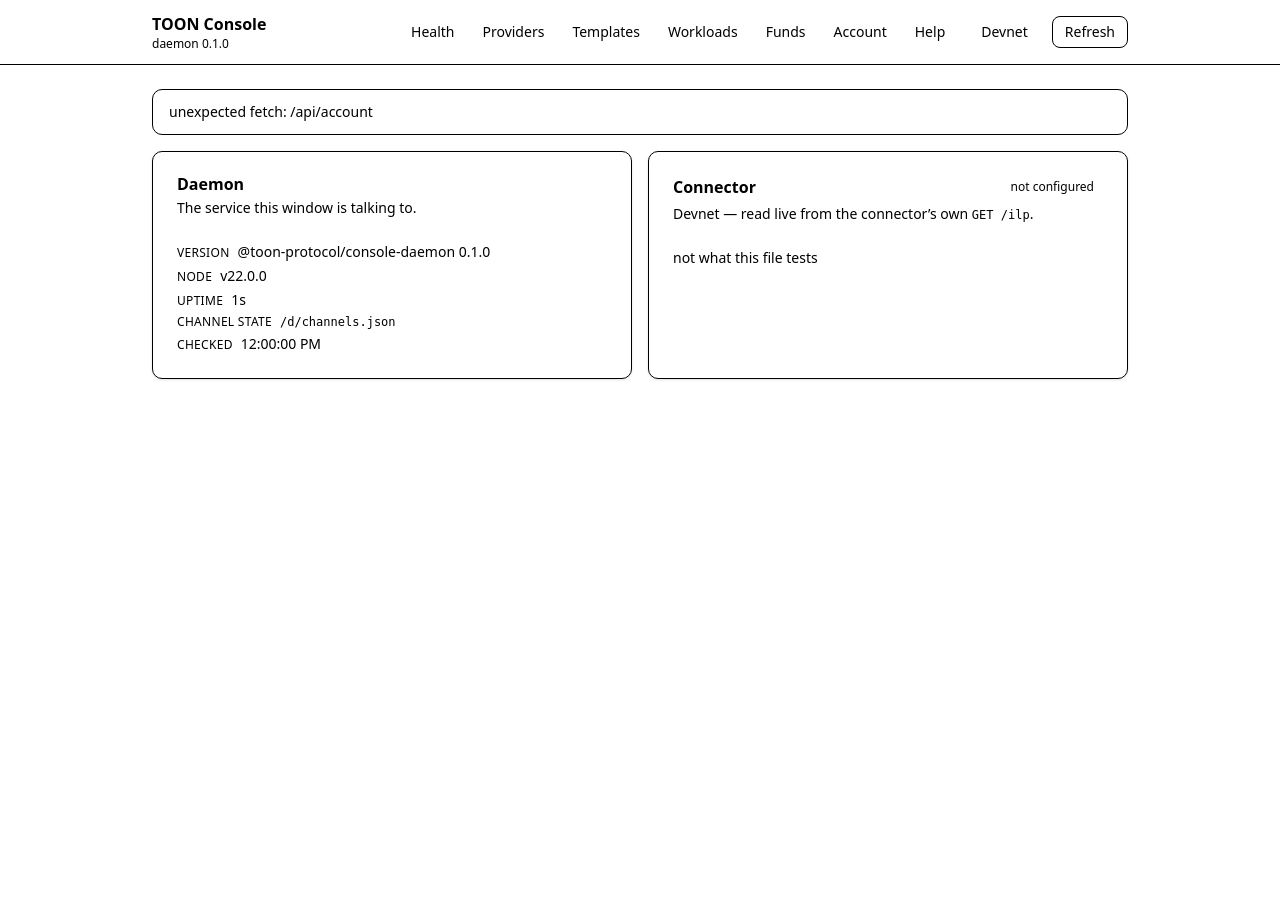
Scenario: browsing the Provider Directory › says a superseded Listing version was set aside
Expected: the text "daemon 0.1.0" is shown, [152,35,229,52]
Click the button "Providers" at (513,32), box [470,16,556,48]
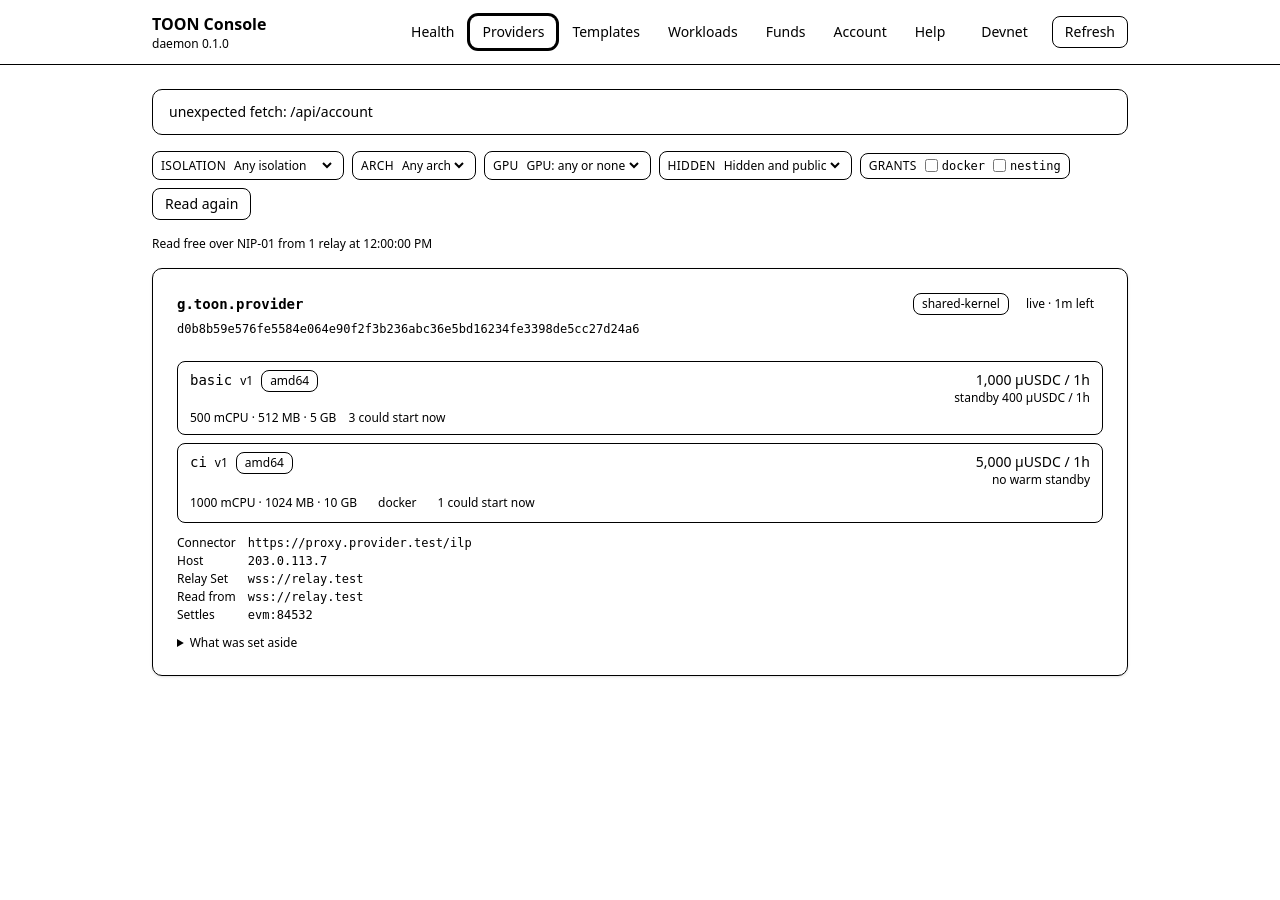
Expected: the text "g.toon.provider" is shown, [177,294,303,314]
Click the heading "What was set aside" at (243,642), box [190,634,297,651]
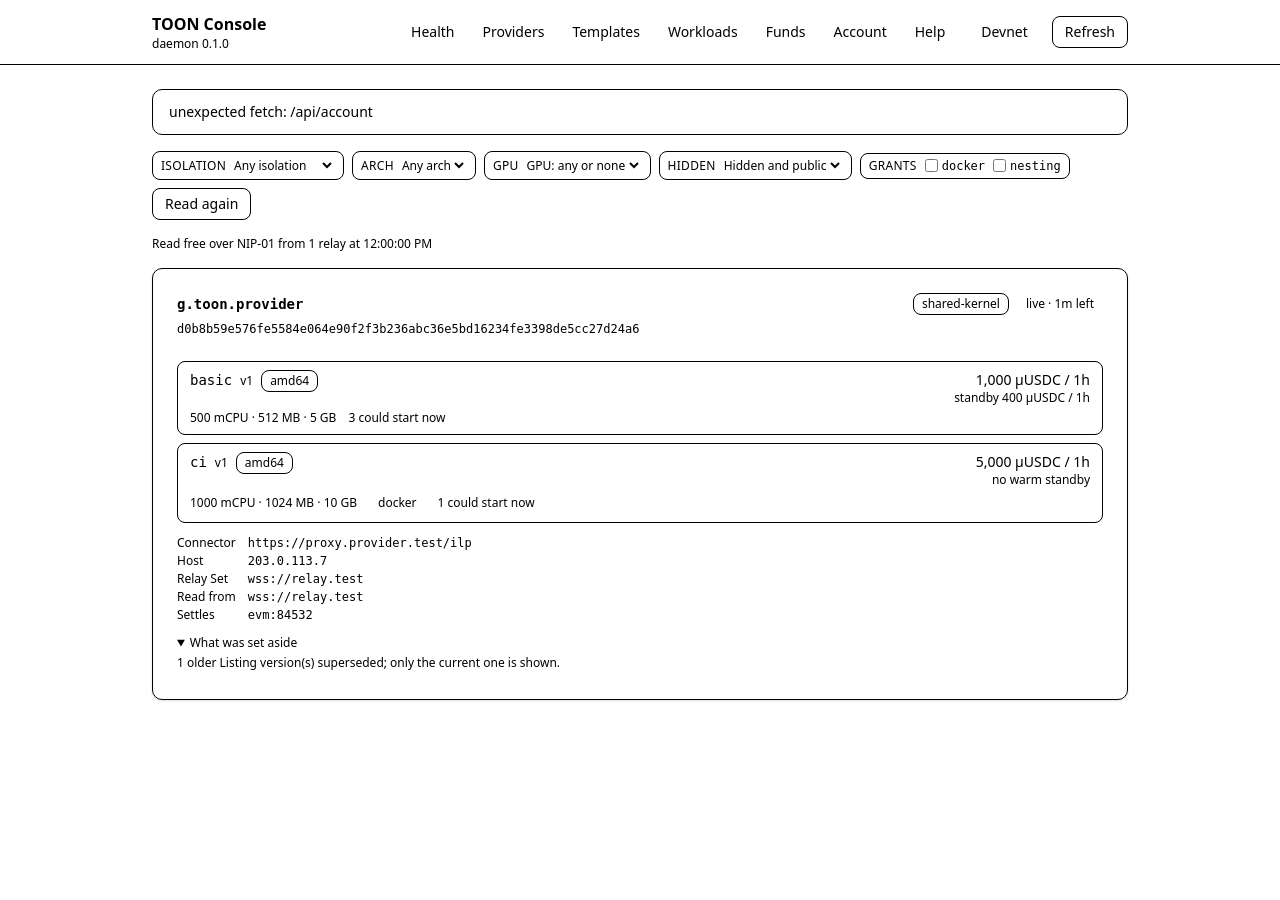
Expected: the text "1 older Listing version(s) superseded" is shown, [177,654,560,671]
